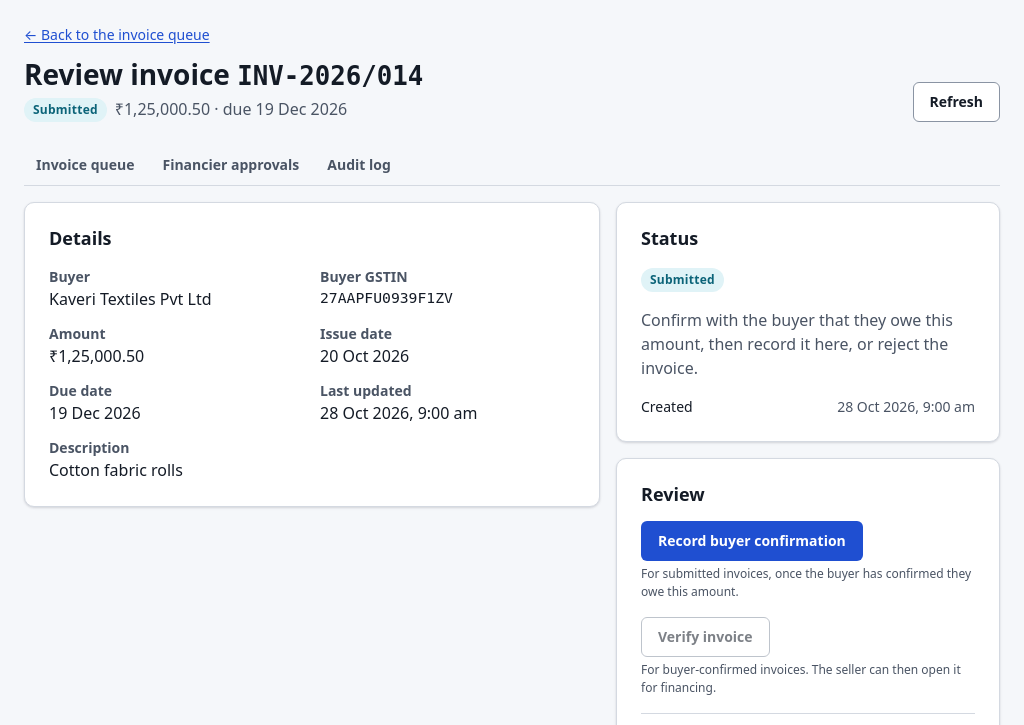
Scenario: InvoiceReviewComponent › keeps the invoice unchanged on 403 and says why
Click the button "Record buyer confirmation" at (752, 541), box x1=641 y1=521 x2=863 y2=561
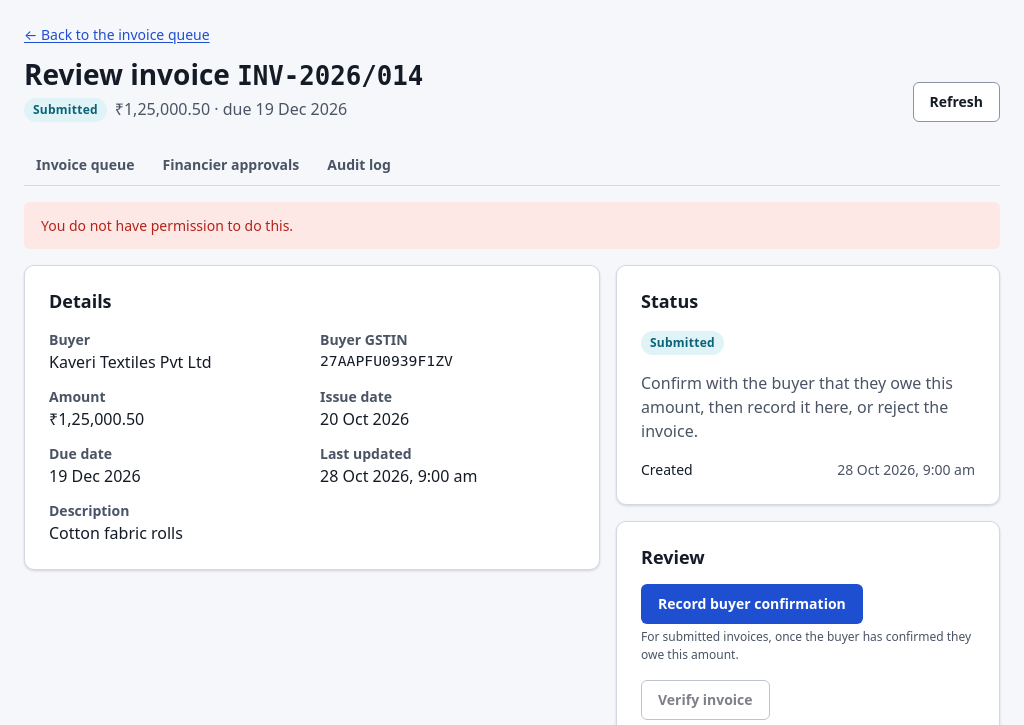
Expected: the text with class "badge" next to "₹1,25,000.50 · due 19 Dec 2026" reads "Submitted", x1=33 y1=101 x2=98 y2=118
Now the message with class "notice" reads "You do not have permission to do this.", box x1=41 y1=216 x2=293 y2=235
